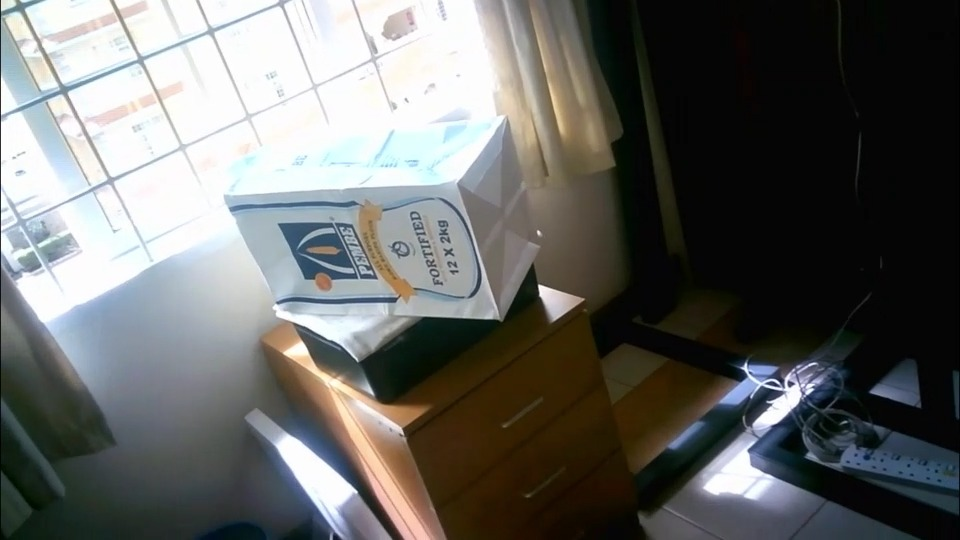wheat_flour_blue_label: (223, 114, 546, 319), (224, 92, 227, 95)
